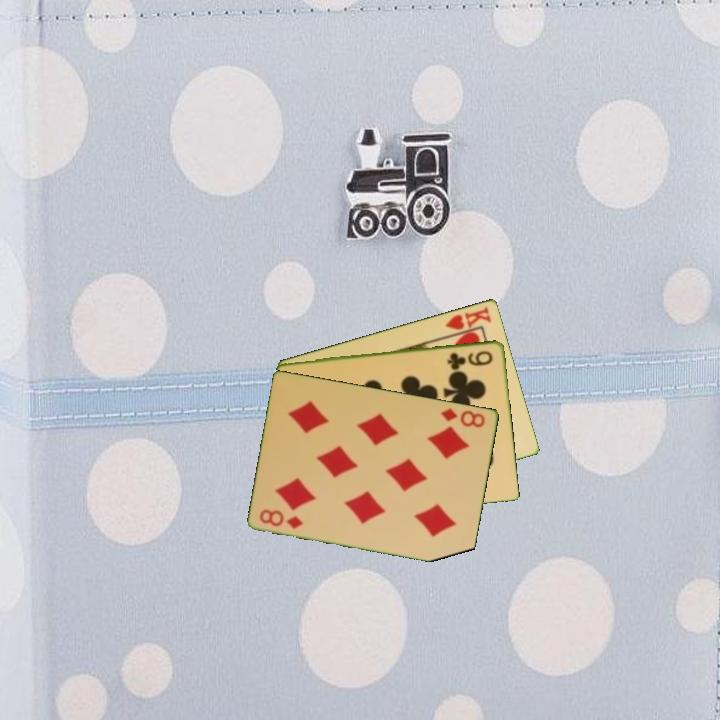8d: (256, 505, 306, 532), (437, 404, 488, 430)
9c: (444, 347, 496, 370)
Kh: (441, 303, 494, 339)
